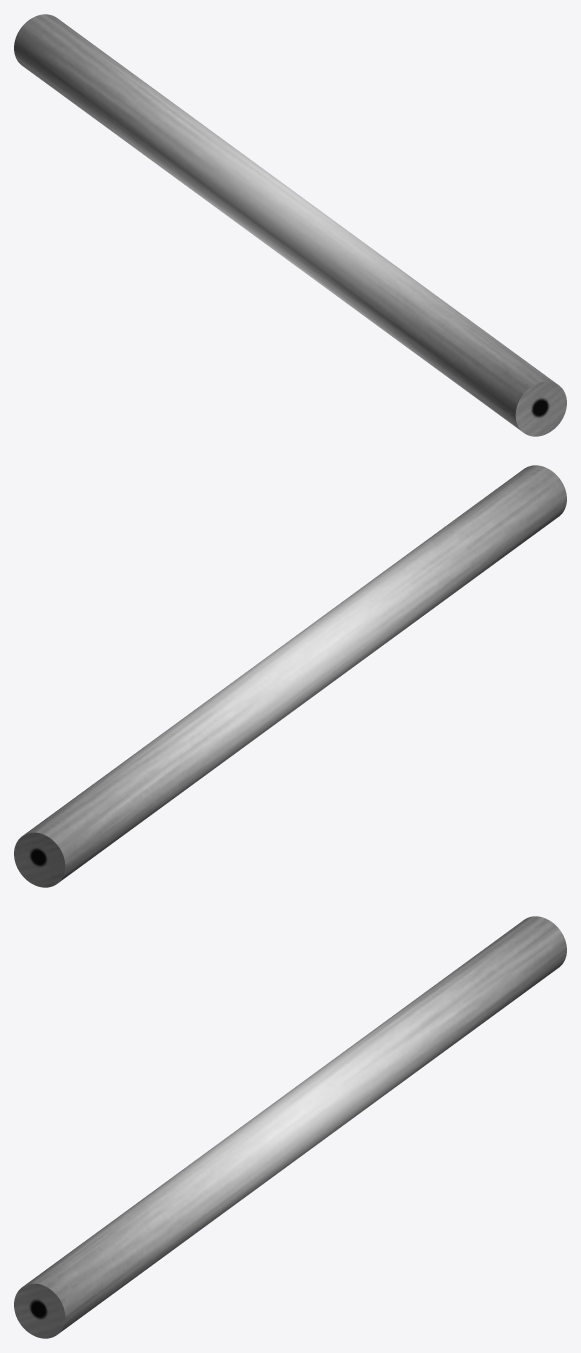
The model's file is pole_top.dae.
3 views of the same model, one above another, from view 1: azimuth 30°, elevation 25°; view 2: azimuth 150°, elevation 25°; view 3: azimuth 330°, elevation 25° (orthographic).
Visible parts, largest first — view 1: _f_pole; view 2: _f_pole; view 3: _f_pole.
Part boxes in pixels (<box>): _f_pole: <box>14,14,566,436</box>; _f_pole: <box>14,465,566,887</box>; _f_pole: <box>14,916,566,1338</box>.
Size of the model in its own units: 12 by 203 by 12.
1 material, 1 textured.
